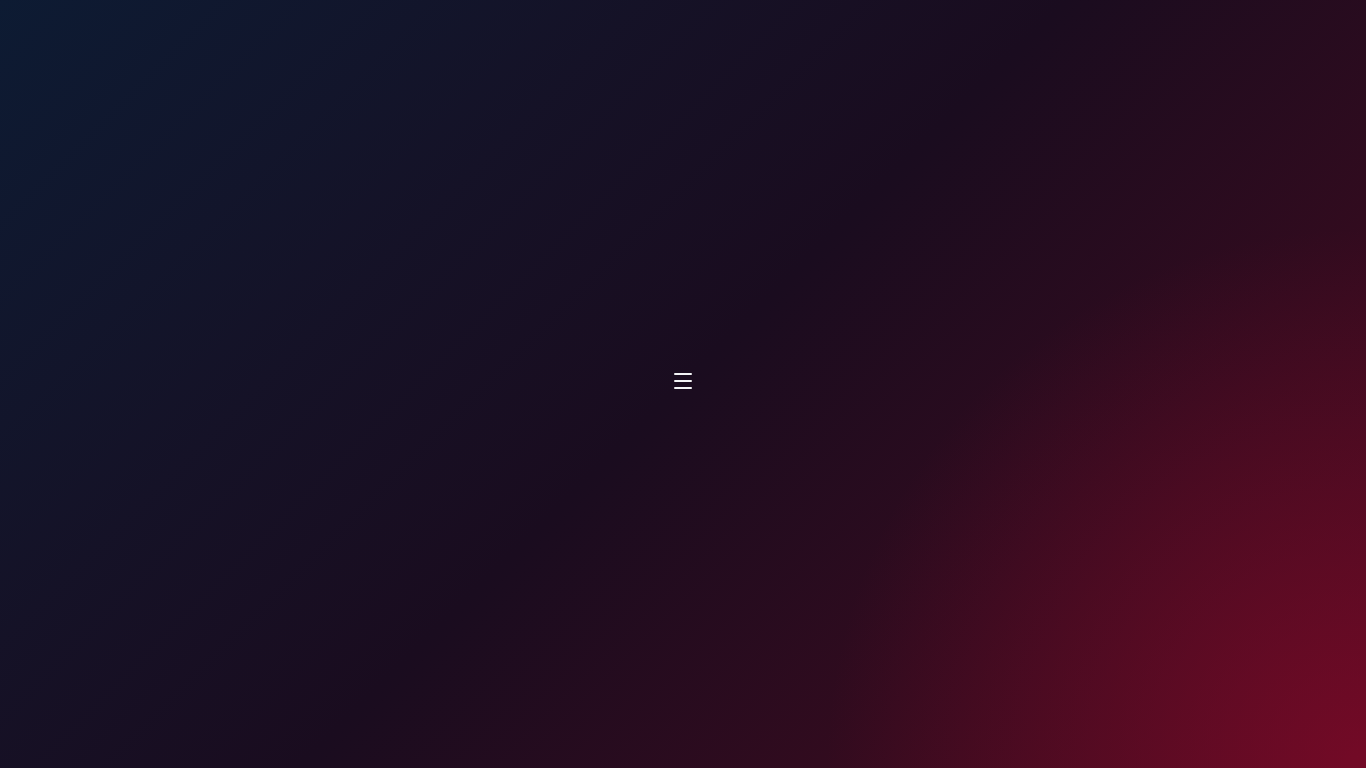
Scenario: navigation & layout › MobileNav opens a labelled drawer and Escape closes it
Click the button named "Open navigation" at point(683, 381), box [671,369,695,393]
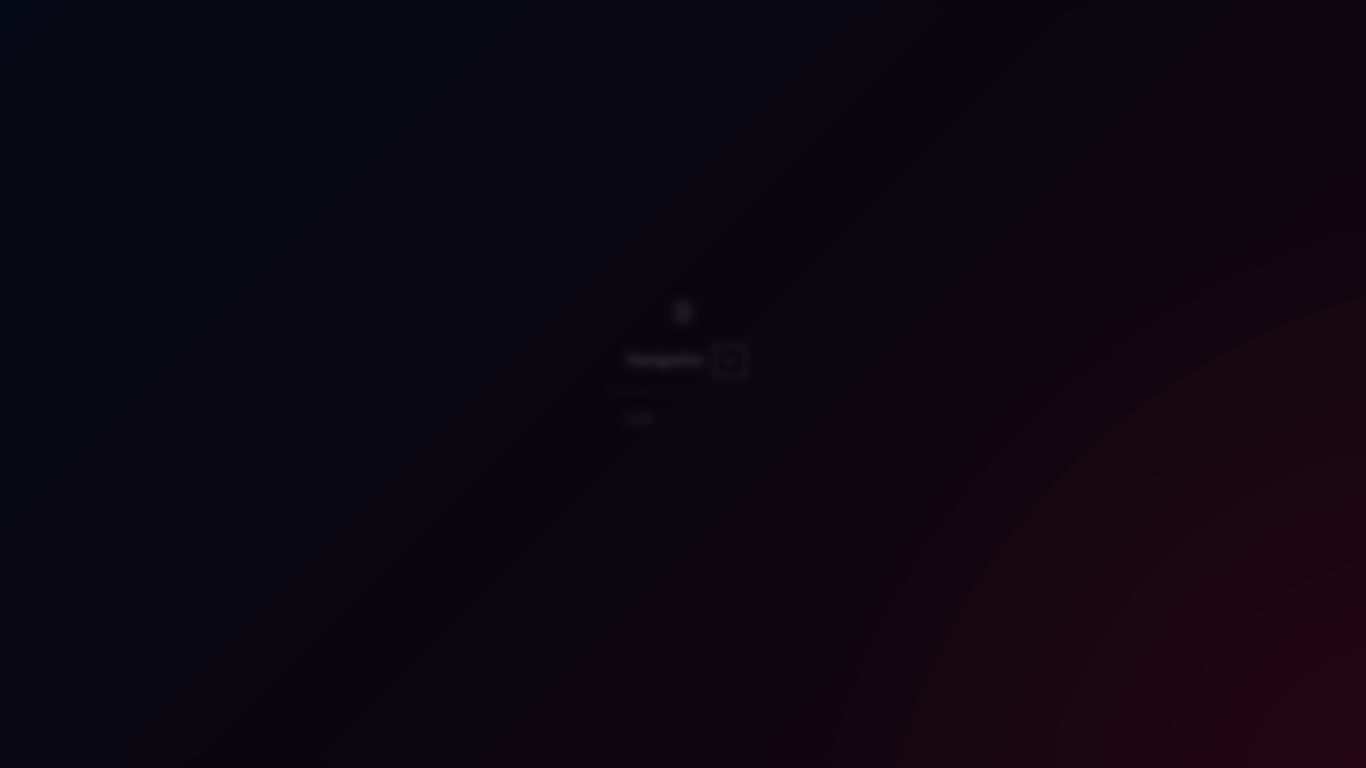
Press Escape
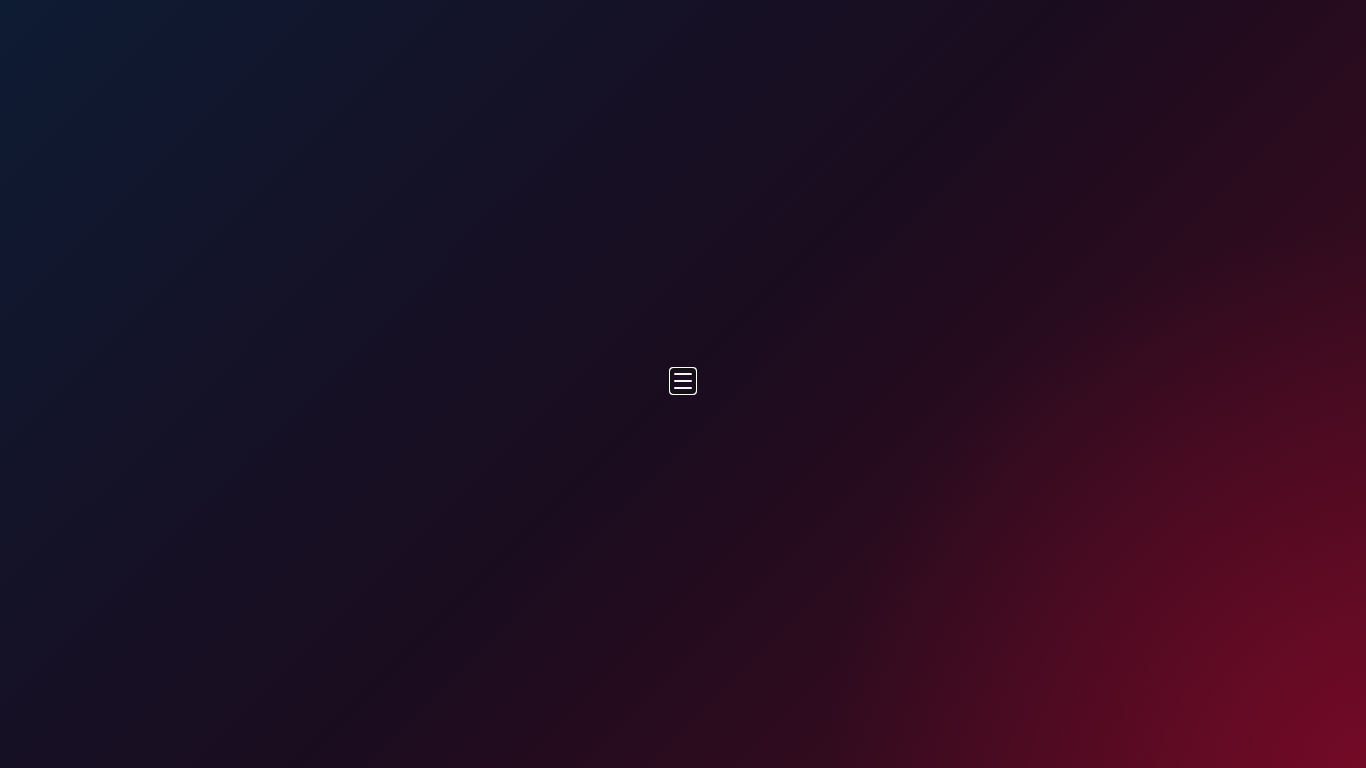
Expected: the dialog is gone
